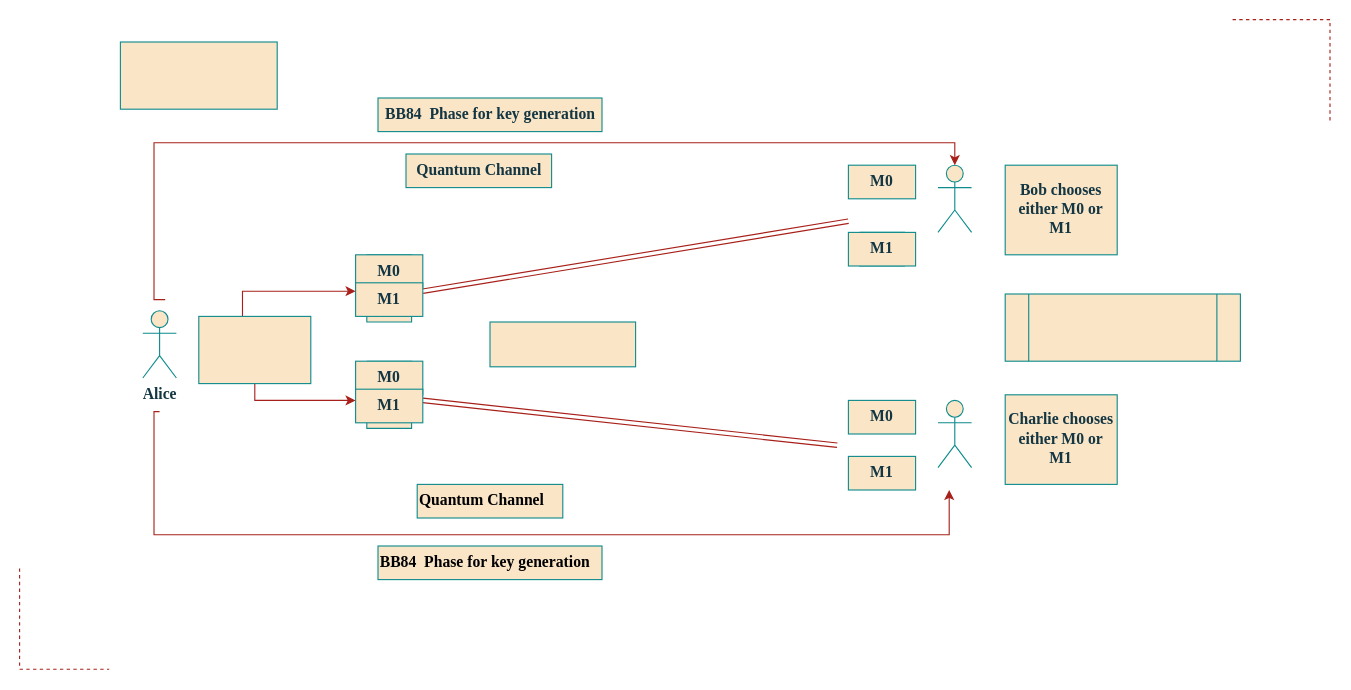
Image size: 1351x690. Some labels were removed from this diagram. Here are the shapes that lost their labels. From the top down, the centre of each, then its label:
At (198,75): "Alice as Sender Bob as Receiver-1 Charlie as Receiver-2".
At (954,198): "Bob".
At (562,344): "Classical Channel".
At (1122,327): "M0 and M1 contains μ ∈ {+1, -1}".
At (254,349): "After Alice's projective measurement".
At (954,433): "Charlie".
